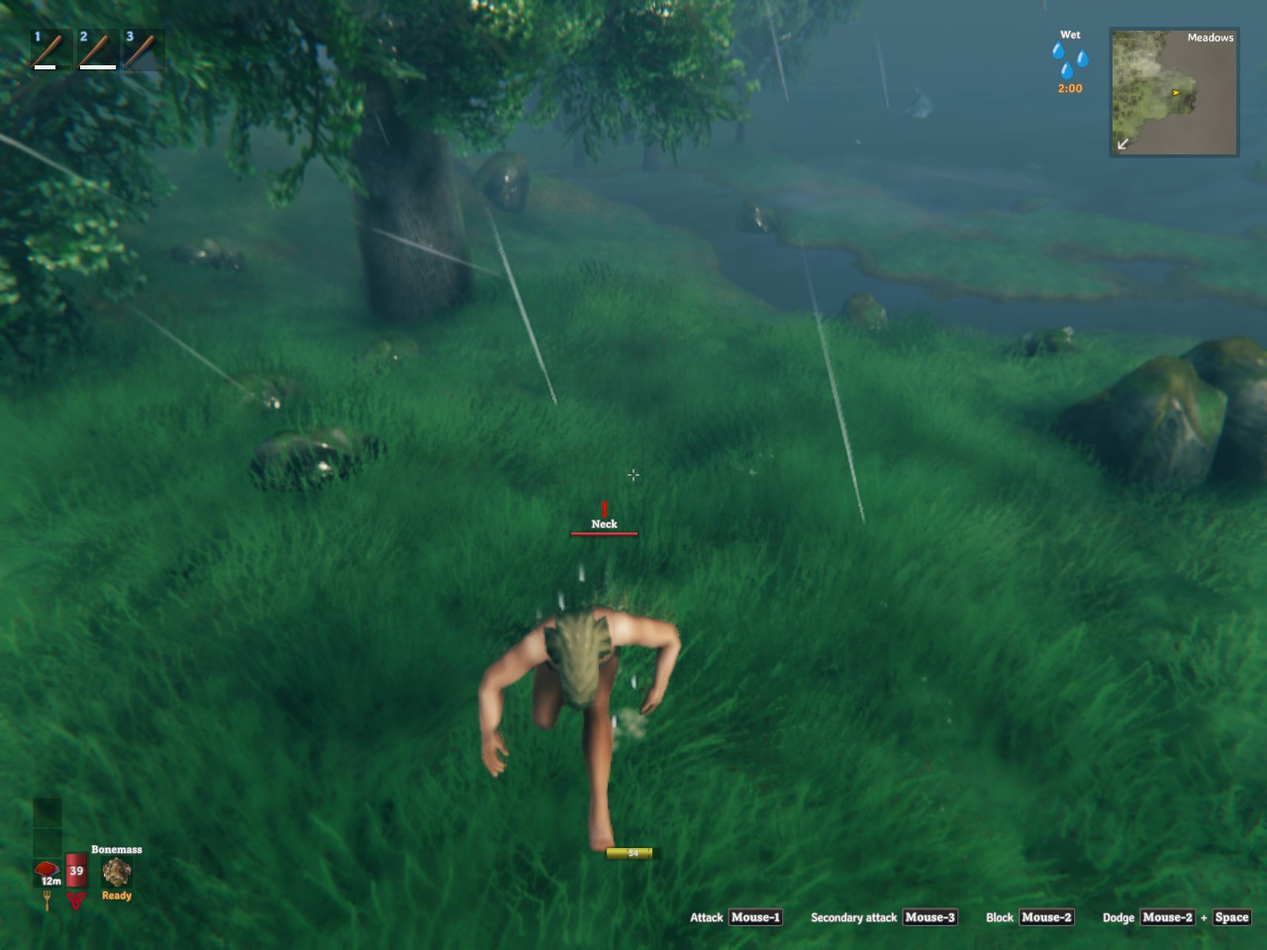Food Indicator: (36, 797, 63, 891)
Health Bar: (63, 820, 90, 891)
Hotbar: (24, 21, 195, 80)
Stamina Bar: (603, 841, 663, 861)
Status Indicator: (1024, 22, 1111, 100)
